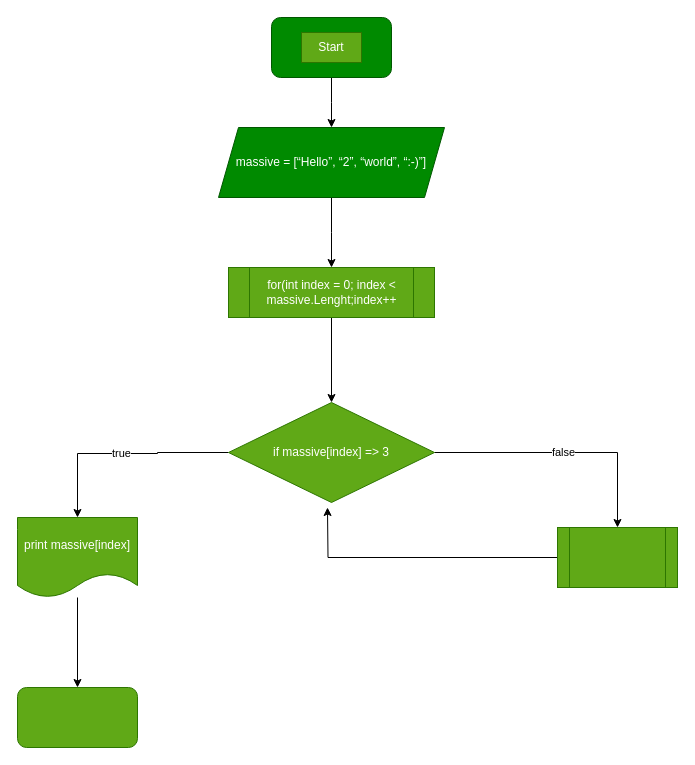
Image size: 695x765. Some labels were removed from this diagram. Each missing label, with the centre of its shape:
"Finish" goes at (77,717).
"index++" goes at (617,557).
